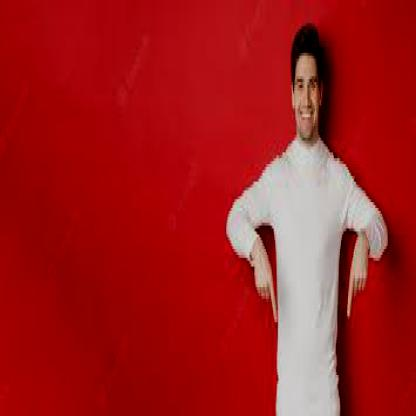Down: (248, 228, 280, 338), (343, 228, 369, 326)
